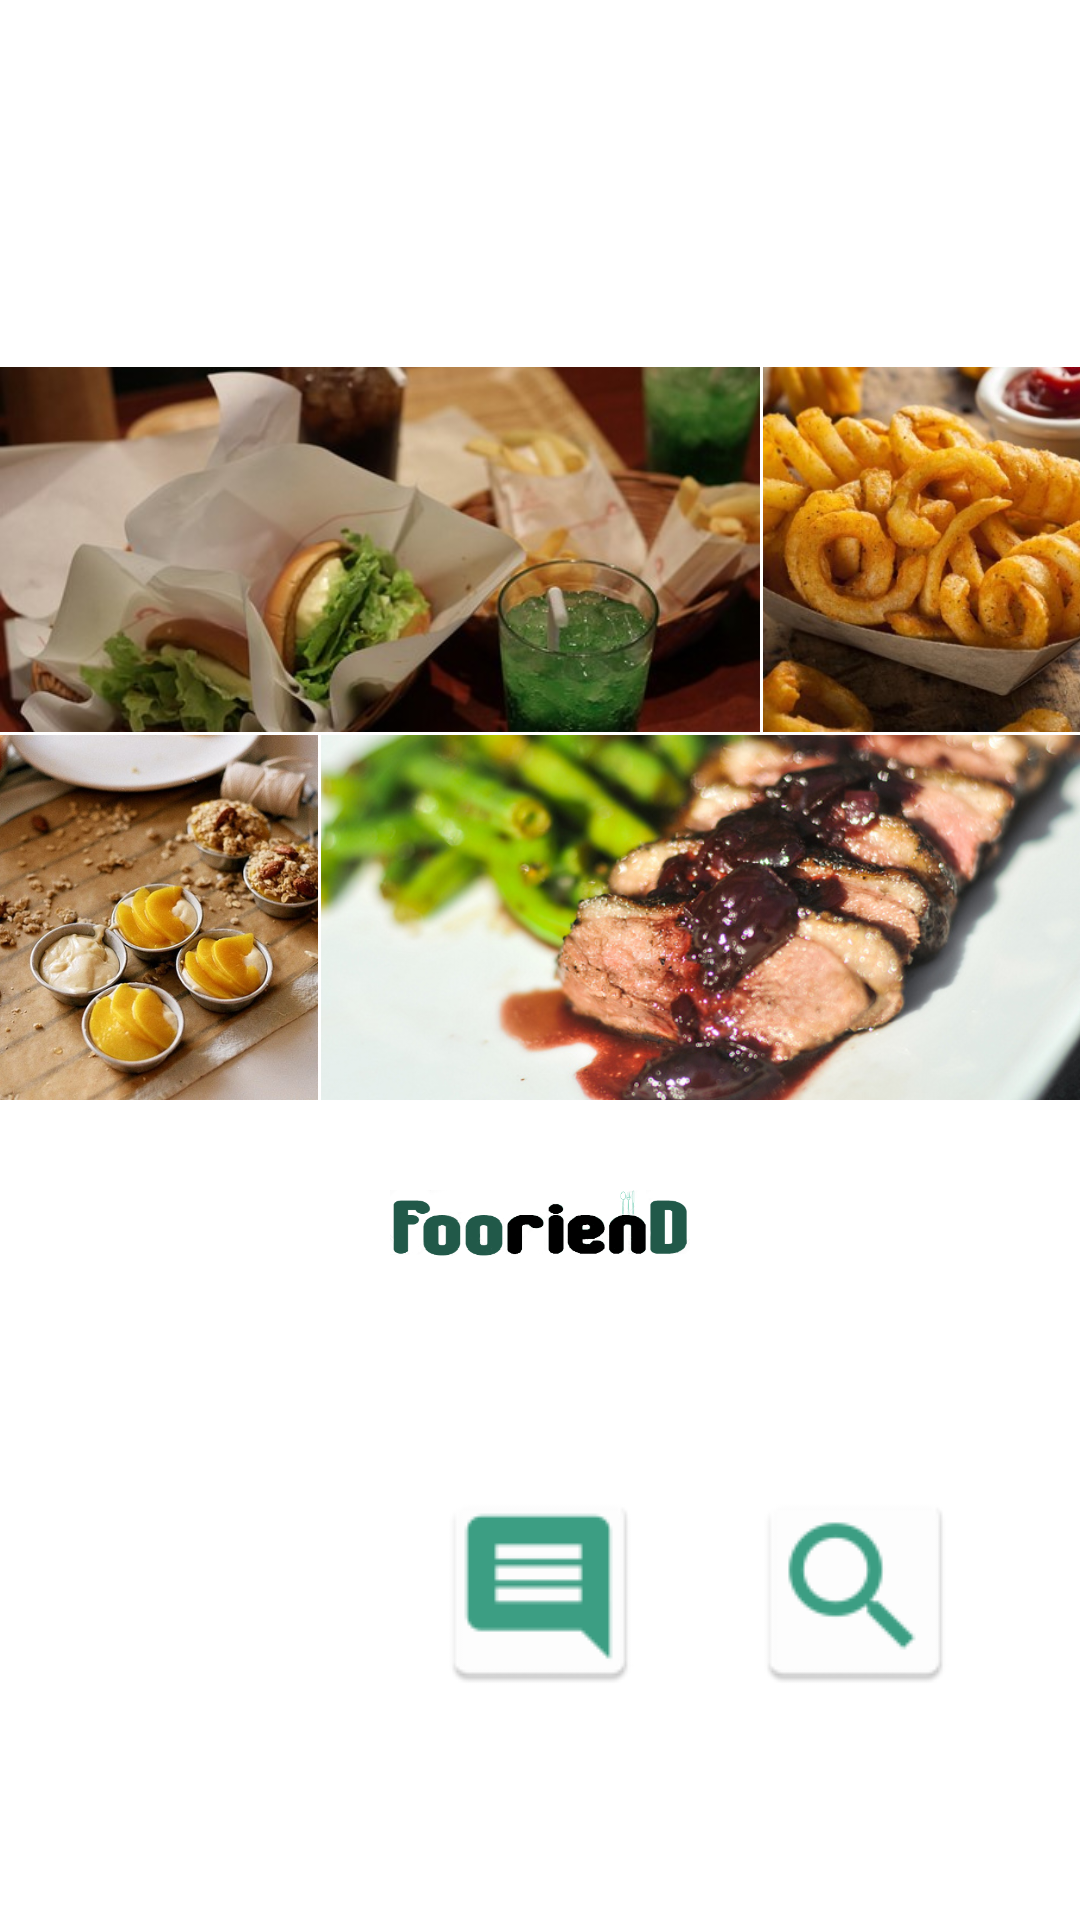

Icon click points for this 1080 × 1920 phone screenshot, format [x,y]:
review: [540,1597]
search: [855,1599]
